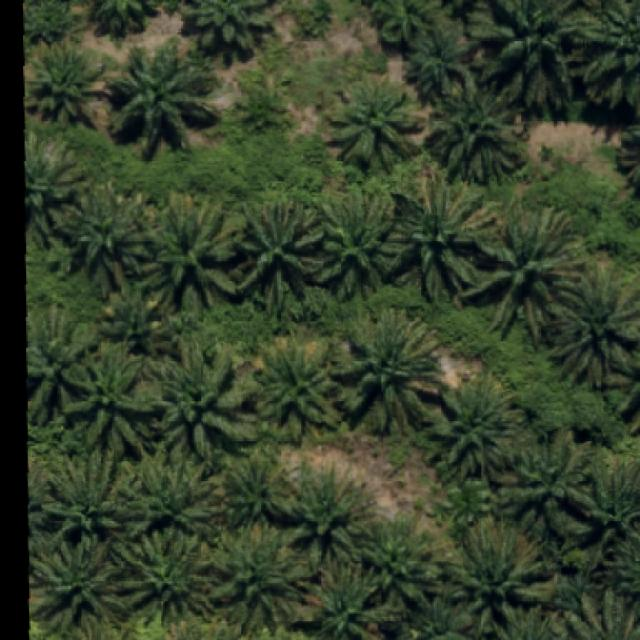Kelapa_Sawit: (458, 201, 578, 347), (387, 170, 499, 302), (336, 307, 446, 436), (151, 337, 260, 466), (106, 37, 219, 158), (140, 188, 242, 312), (58, 341, 160, 464), (497, 424, 601, 541), (424, 70, 528, 185), (447, 517, 544, 640), (204, 524, 310, 630), (319, 178, 412, 298), (430, 370, 524, 488), (65, 180, 157, 298), (236, 198, 329, 313), (113, 524, 219, 624), (254, 328, 344, 444), (283, 456, 372, 572), (324, 75, 424, 177), (30, 534, 128, 638), (114, 453, 221, 545), (354, 510, 446, 615), (24, 35, 107, 127), (42, 445, 122, 538), (402, 23, 481, 108), (223, 447, 292, 531)
